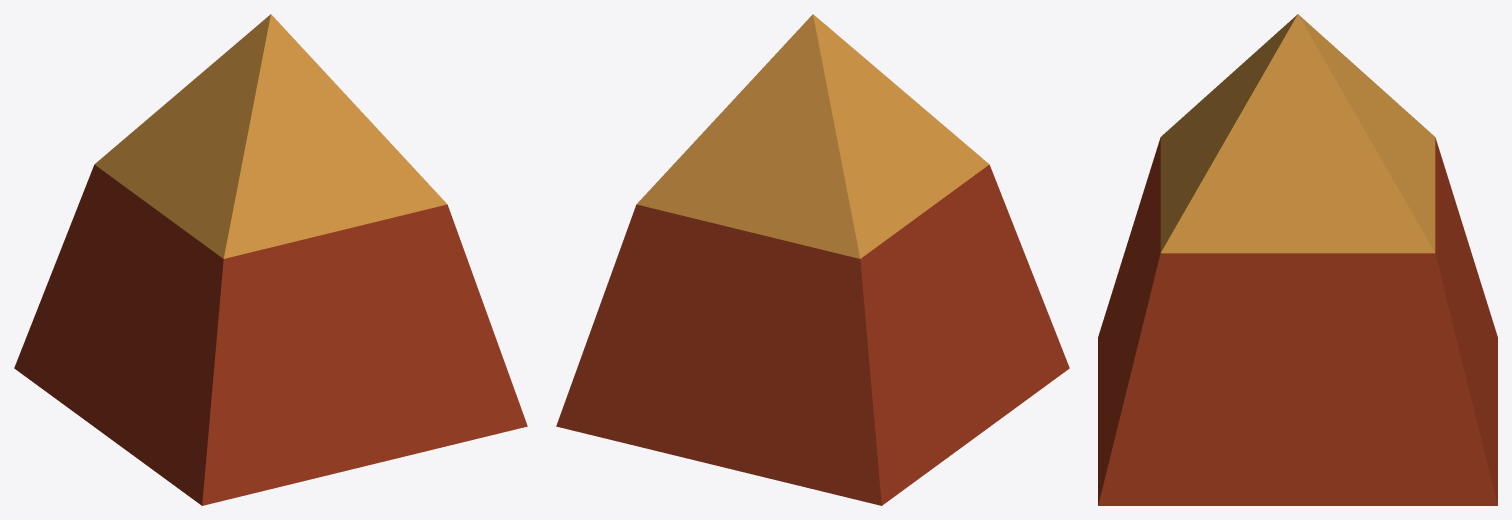
Rendered from pedestal.obj.
3 views of the same model, side by side, from view 1: azimuth 30°, elevation 25°; view 2: azimuth 150°, elevation 25°; view 3: azimuth 270°, elevation 25° (orthographic). The views are drawn at different scales.
Visible parts, largest first — view 1: pedestal; view 2: pedestal; view 3: pedestal.
Part boxes in pixels (x1,y1,x2,y2): pedestal: (14, 14, 527, 505); pedestal: (556, 14, 1069, 505); pedestal: (1098, 14, 1497, 505).
Size of the model in its own units: 1.6 by 1.8 by 1.6.
